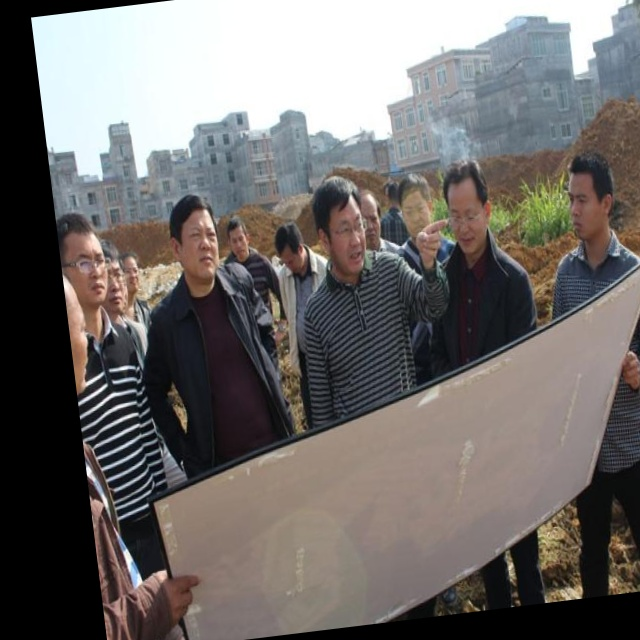Sin_Casco_Mascarrilla: (310, 173, 373, 277), (165, 190, 226, 286), (560, 147, 619, 243)
